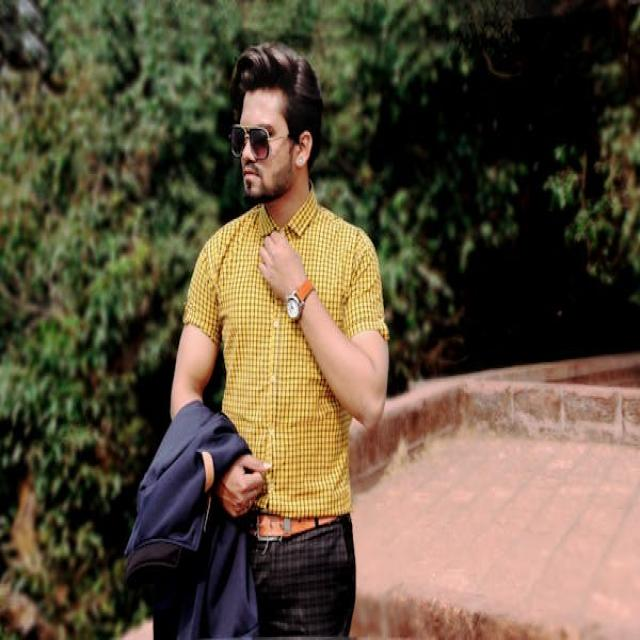Real human 2: (159, 31, 406, 640)
